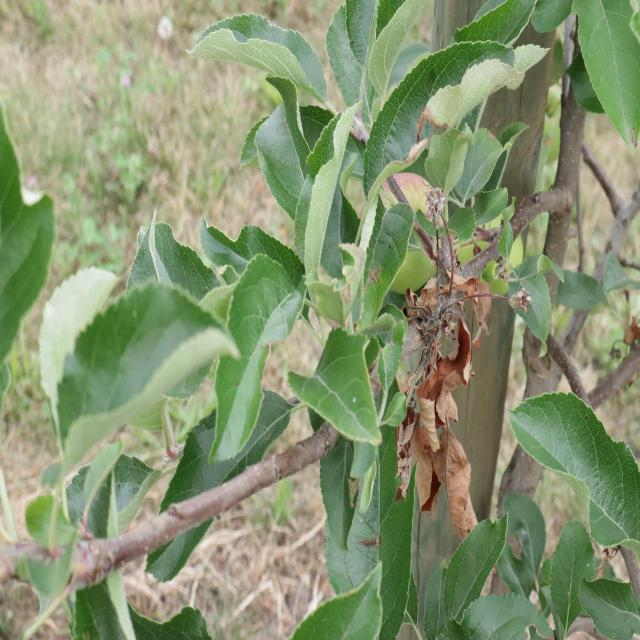-FireBlight-: (420, 193, 492, 389), (407, 367, 475, 538)
